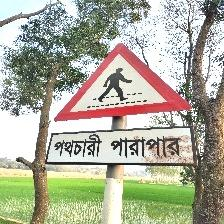Pedestrian-crossing: (49, 42, 196, 168)
